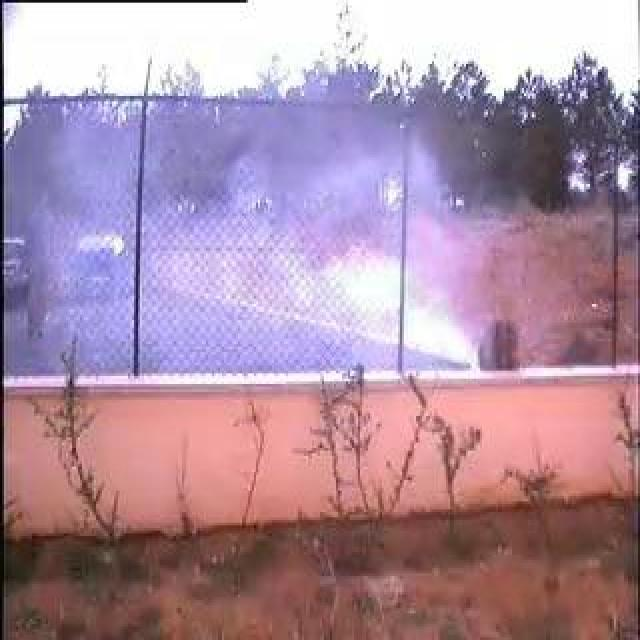Smoke: (163, 98, 481, 370)
